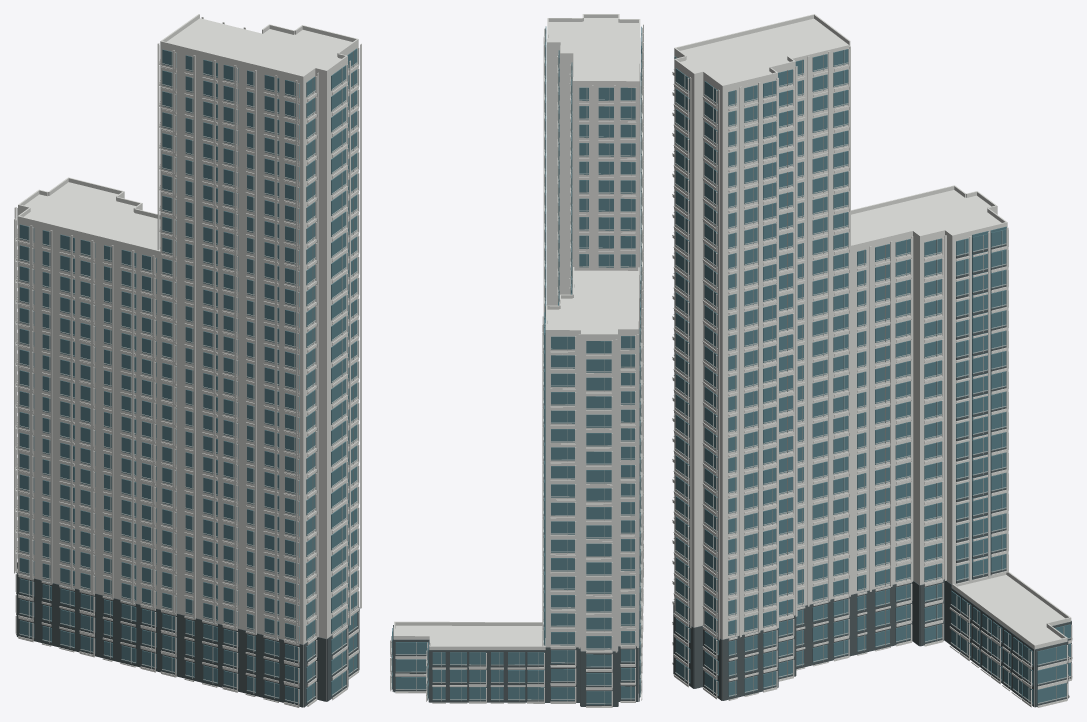
File: bespoke-acro-riverpark-110.glb
The picture shows the model from 3 angles, left to right: view 1: azimuth 30°, elevation 25°; view 2: azimuth 150°, elevation 25°; view 3: azimuth 270°, elevation 25°; orthographic projection. The views are drawn at different scales.
Visible parts, largest first — view 1: 110_R00_body, 110_R00_glass, 110_R00_frame, 110_R00_dark; view 2: 110_R00_body, 110_R00_glass, 110_R00_frame, 110_R00_dark; view 3: 110_R00_body, 110_R00_glass, 110_R00_frame, 110_R00_dark.
Boxes of the visible parts, x1,y1,x2,y2 form: 110_R00_body: (14,14,361,707); 110_R00_glass: (19,48,357,703); 110_R00_frame: (17,51,357,704); 110_R00_dark: (16,562,359,707); 110_R00_body: (390,14,643,707); 110_R00_glass: (392,26,641,704); 110_R00_frame: (391,27,642,705); 110_R00_dark: (391,348,639,706); 110_R00_body: (672,14,1072,707); 110_R00_glass: (674,49,1070,704); 110_R00_frame: (673,50,1070,703); 110_R00_dark: (673,244,1071,707).
Size of the model in its own units: 41.71 by 105 by 61.98.
